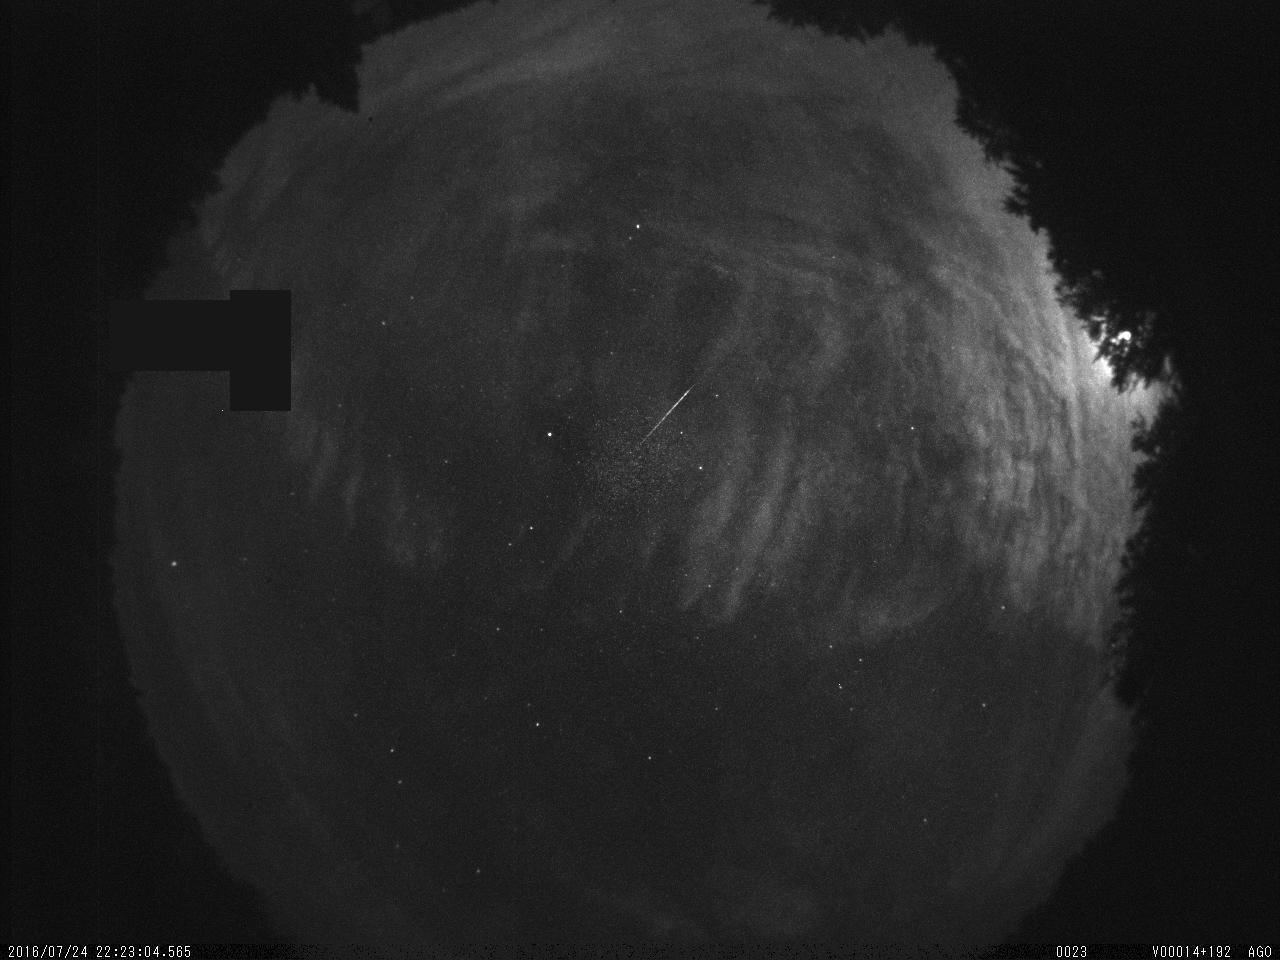Meteor: (634, 370, 710, 454)
